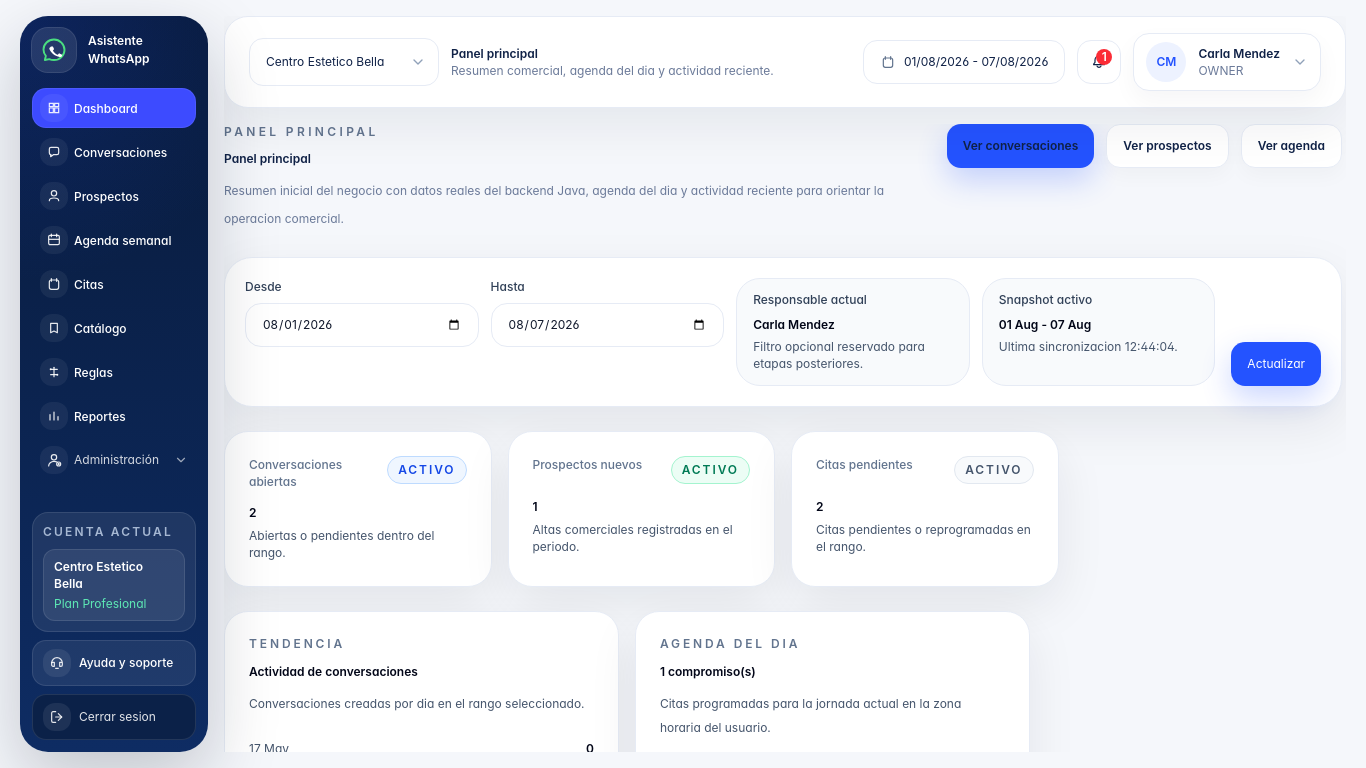
Scenario: app shell router › logs out and redirects back to login from a protected route
The image size is (1366, 768).
Expected: the text "Conversaciones abiertas" is shown, [249,457,342,489]
Click the button "CM Carla Mendez OWNER" at {"x": 1227, "y": 62}, box [1133,33,1321,91]
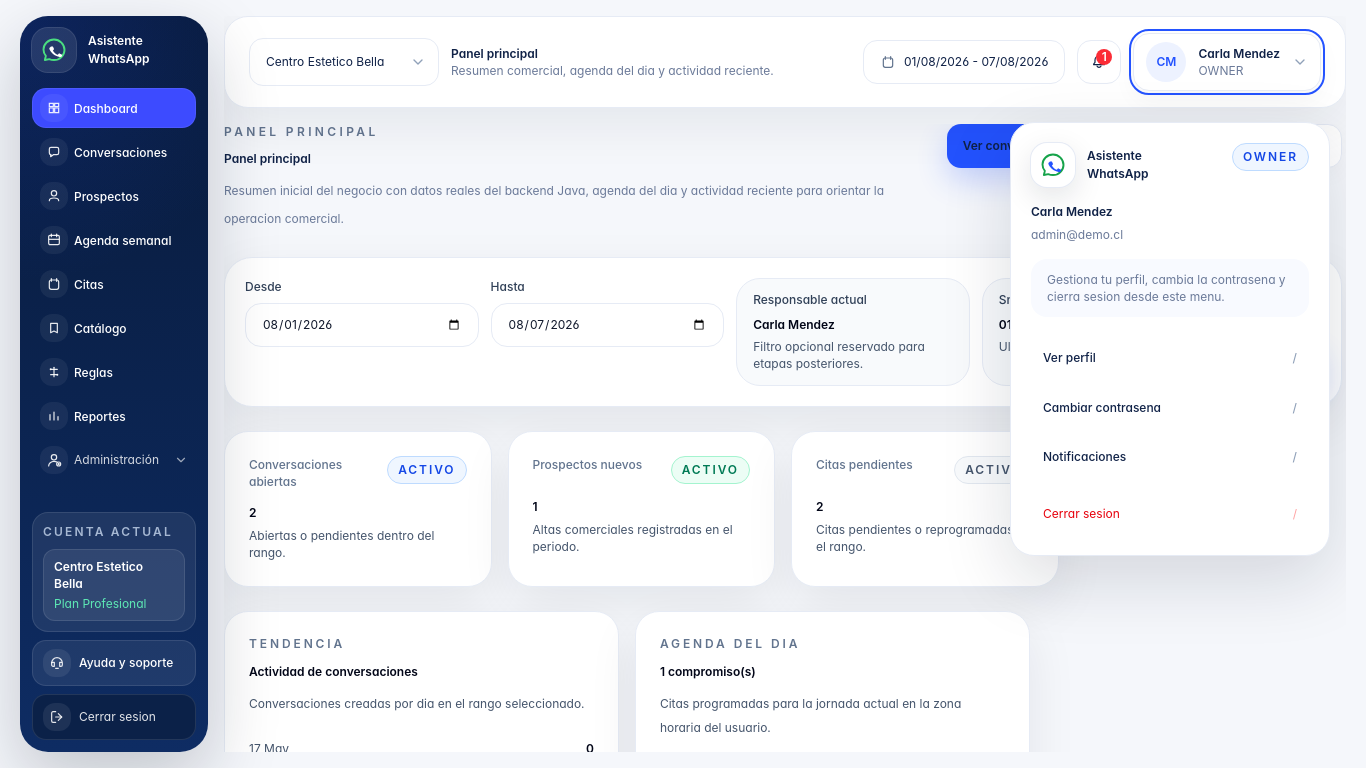
Click the button "Cerrar sesion" at {"x": 114, "y": 717}, box [32,694,196,740]
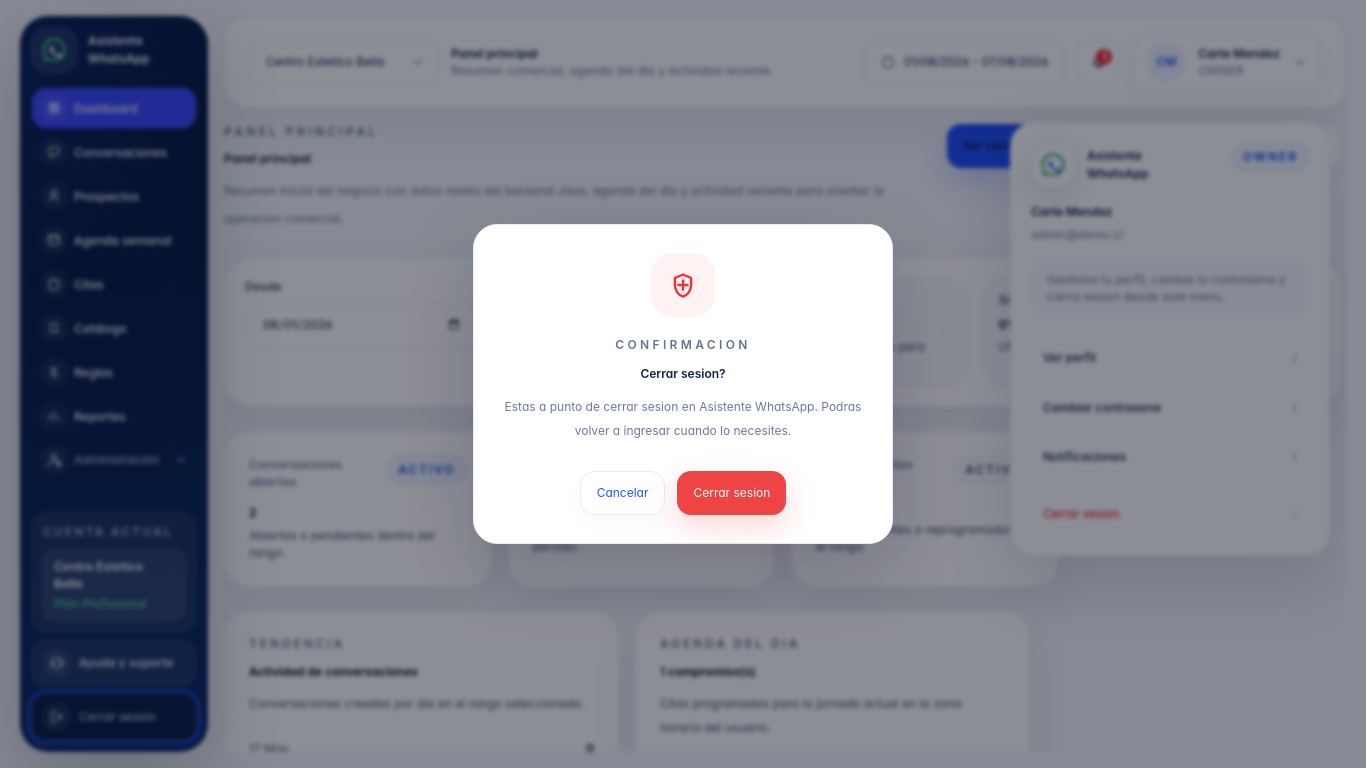
Click the button "Cerrar sesion" at {"x": 732, "y": 493}, box [678,471,786,515]
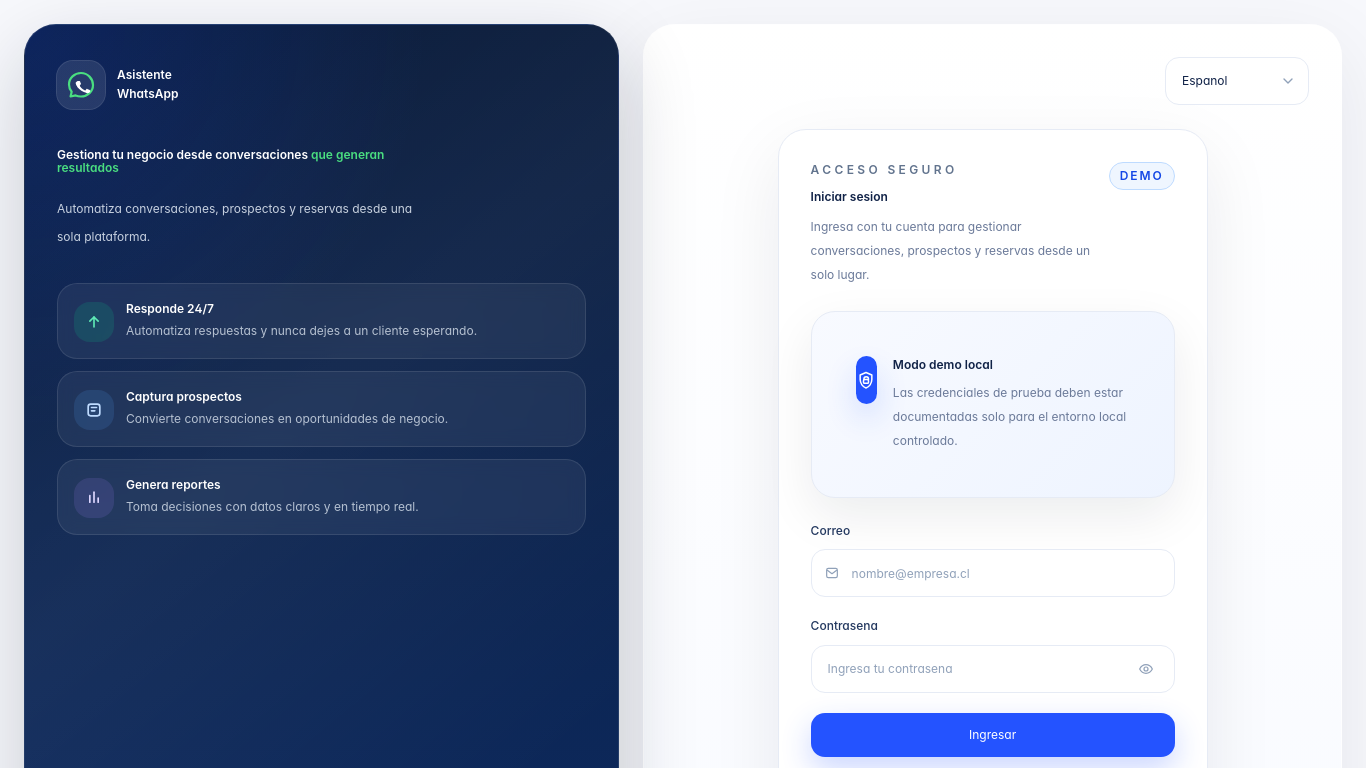
Now the heading "Iniciar sesion" is shown, box [811,189,888,204]
